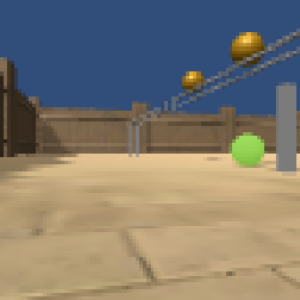goodGoal: (230, 129, 266, 166)
goodGoalMulti: (226, 28, 265, 67), (178, 67, 204, 92)
wall: (275, 83, 297, 174), (127, 124, 142, 160)
